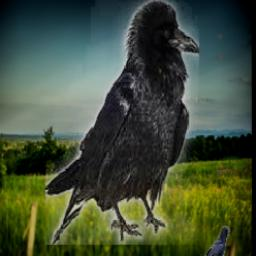Crow: (46, 0, 200, 245), (197, 226, 230, 256)
